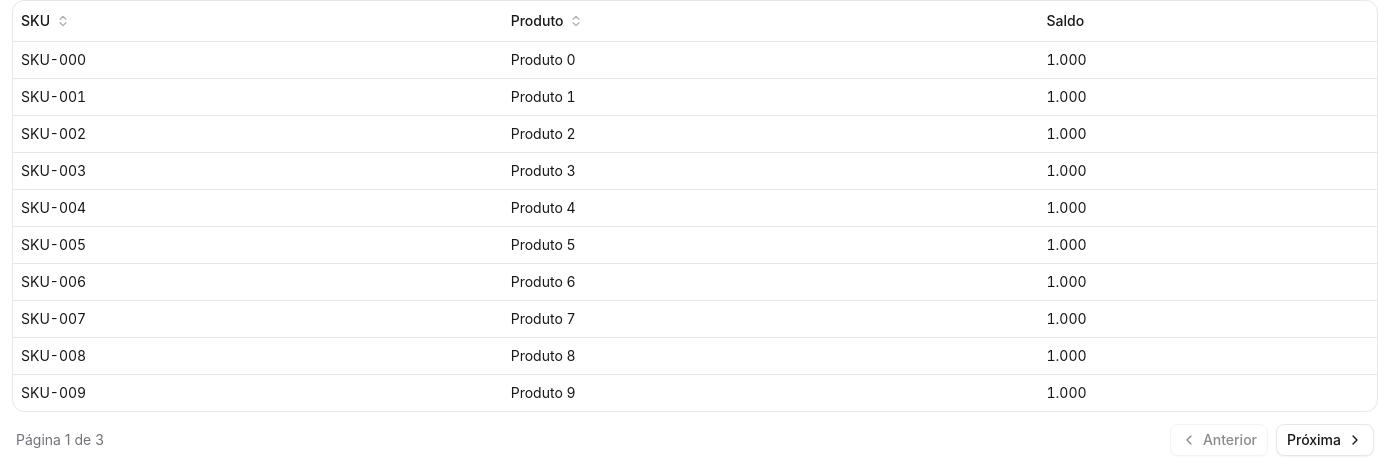
Test: DataTable › paginação › avança e volta de página
Click the button "Próxima" at (1325, 440), box [1276, 424, 1374, 456]
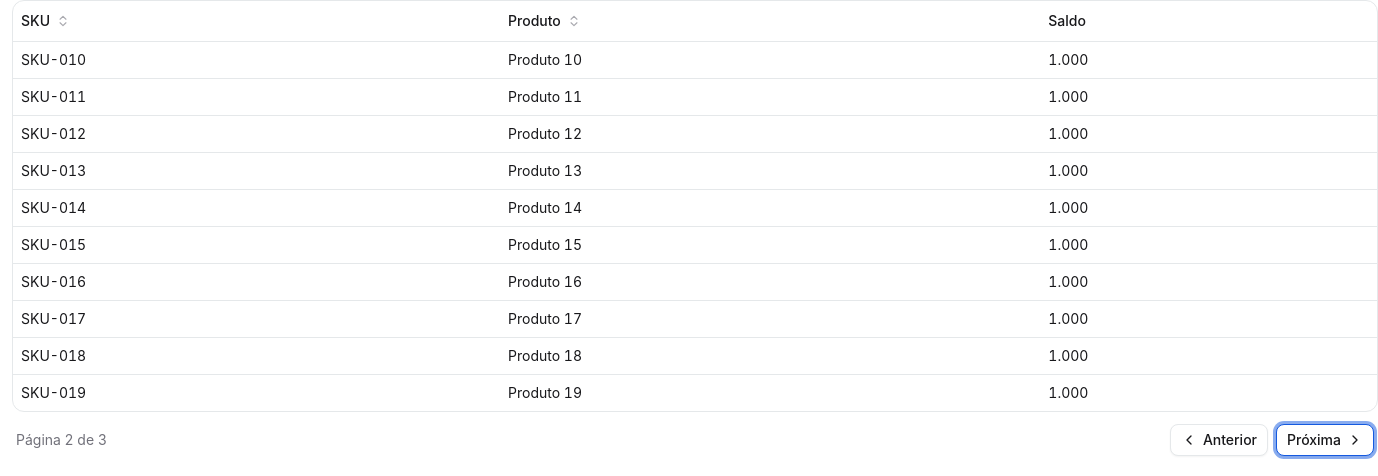
expect the text "Página 2 de 3" is shown: met, box [16, 430, 107, 450]
Click the button "Anterior" at (1219, 440), box [1170, 424, 1268, 456]
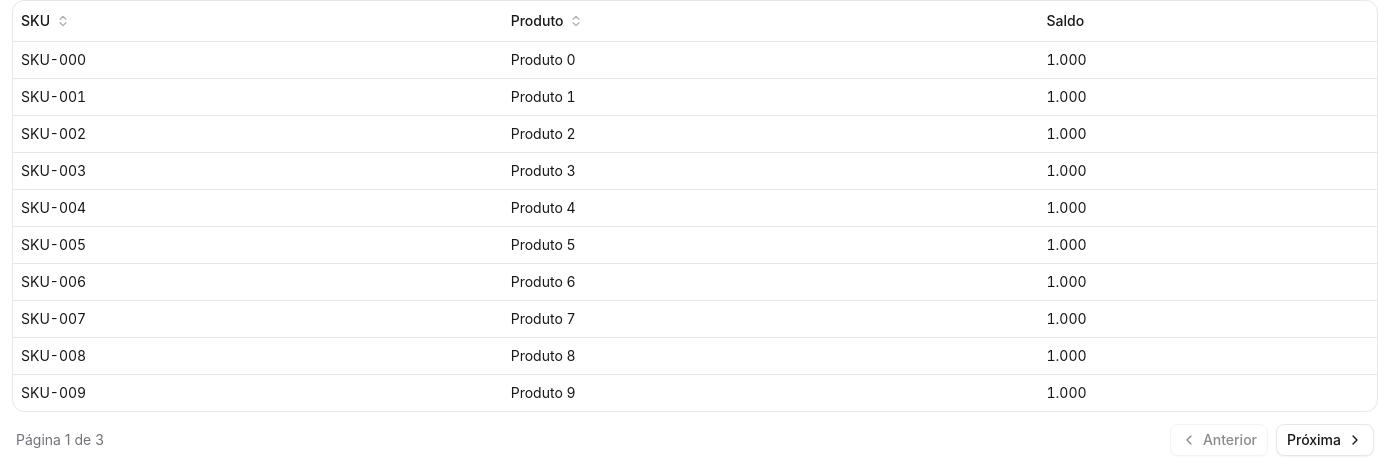
expect the text "Página 1 de 3" is shown: met, box [16, 430, 104, 450]
